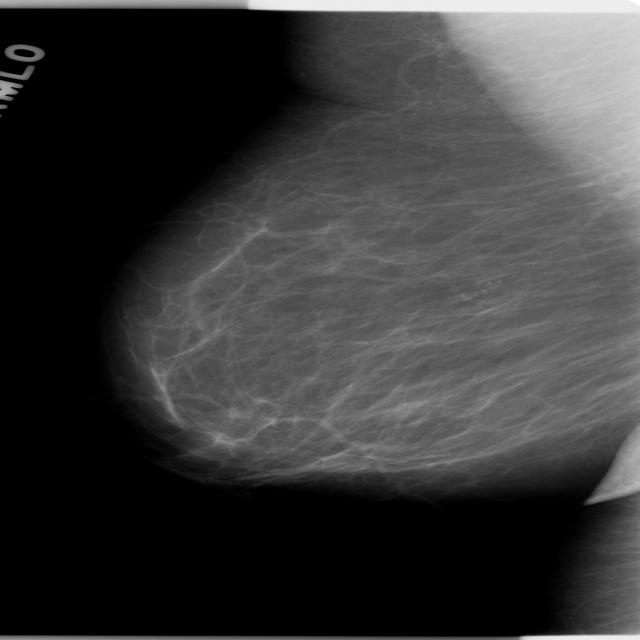normal: (145, 0, 640, 507)
